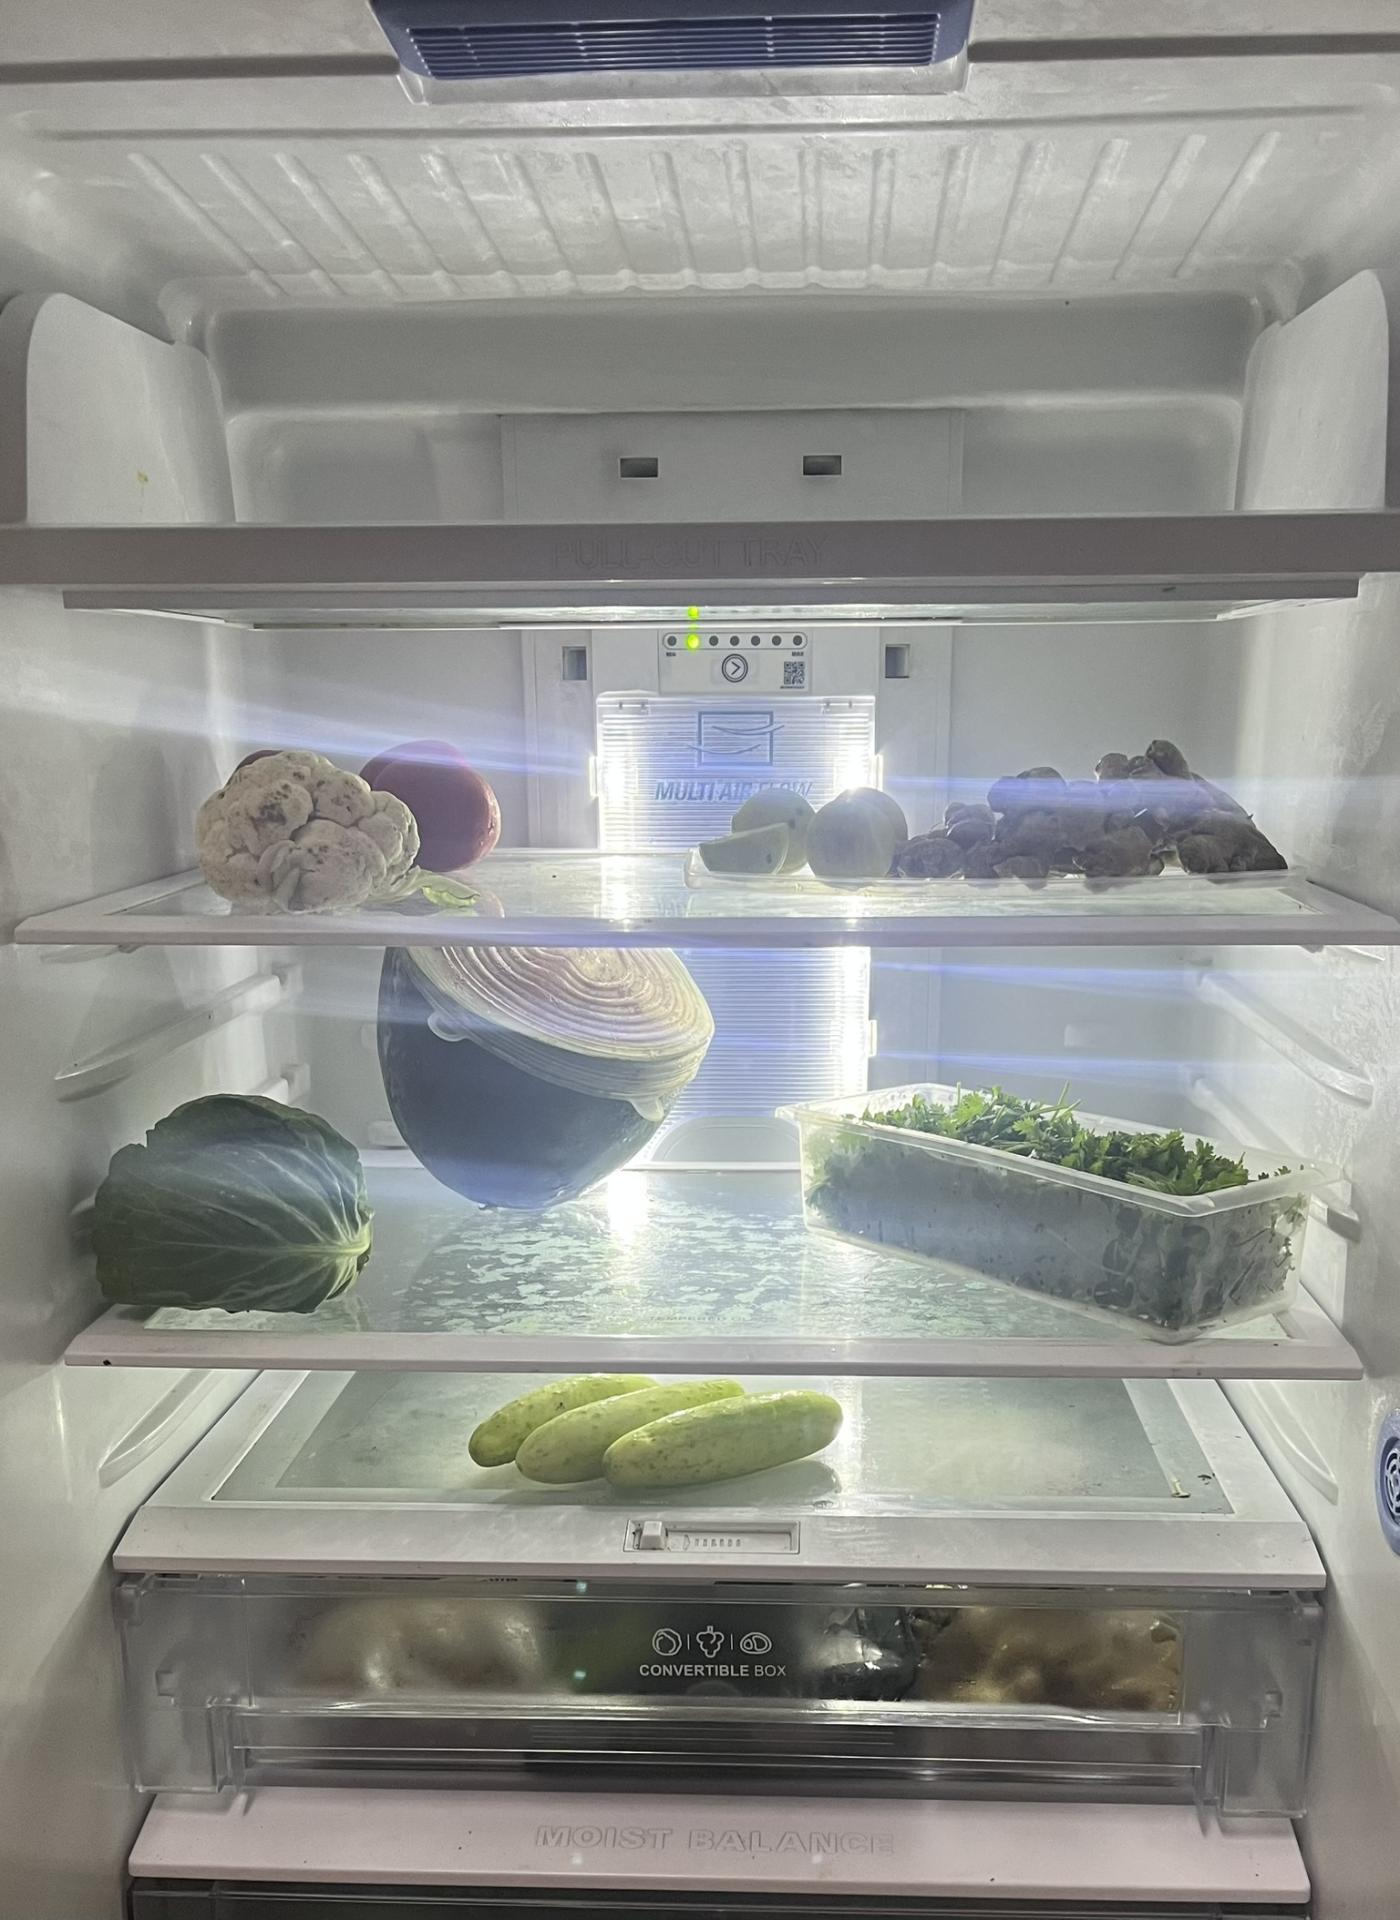cabbage: (91, 1088, 383, 1325)
coriander: (802, 1051, 1306, 1288), (191, 753, 431, 909)
cucumber: (465, 1368, 838, 1488)
ginger: (896, 744, 1291, 875)
lemon: (699, 781, 902, 875)
tomato: (370, 744, 513, 866)
watermelon: (374, 938, 720, 1225)
